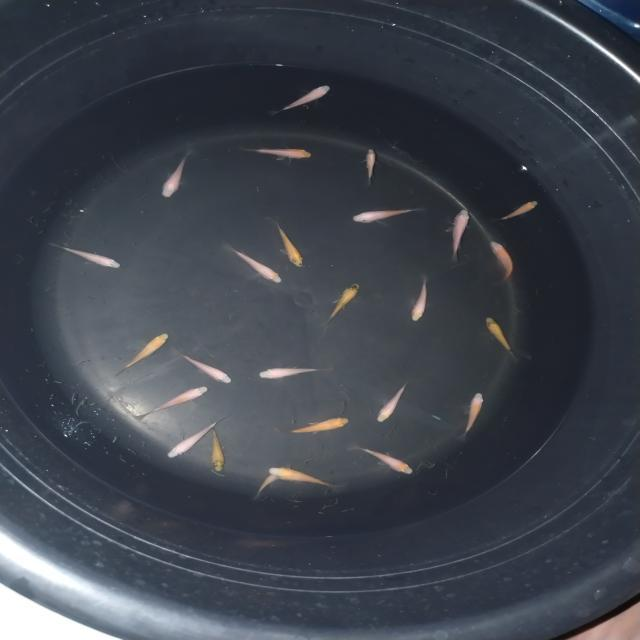nila: (165, 414, 230, 461), (112, 329, 177, 375), (138, 384, 214, 420), (170, 347, 236, 384), (226, 243, 284, 285), (49, 242, 124, 270), (351, 444, 416, 476), (480, 314, 523, 362), (270, 84, 334, 116), (158, 146, 196, 199), (265, 463, 341, 488), (270, 219, 306, 269), (276, 416, 357, 438), (322, 282, 362, 326), (254, 362, 336, 382), (374, 380, 411, 422), (351, 203, 424, 224), (254, 462, 295, 499), (457, 390, 486, 442), (448, 206, 473, 266), (487, 239, 518, 287), (492, 198, 547, 224), (240, 146, 316, 163), (409, 274, 432, 322), (209, 423, 228, 475), (362, 147, 379, 185)
